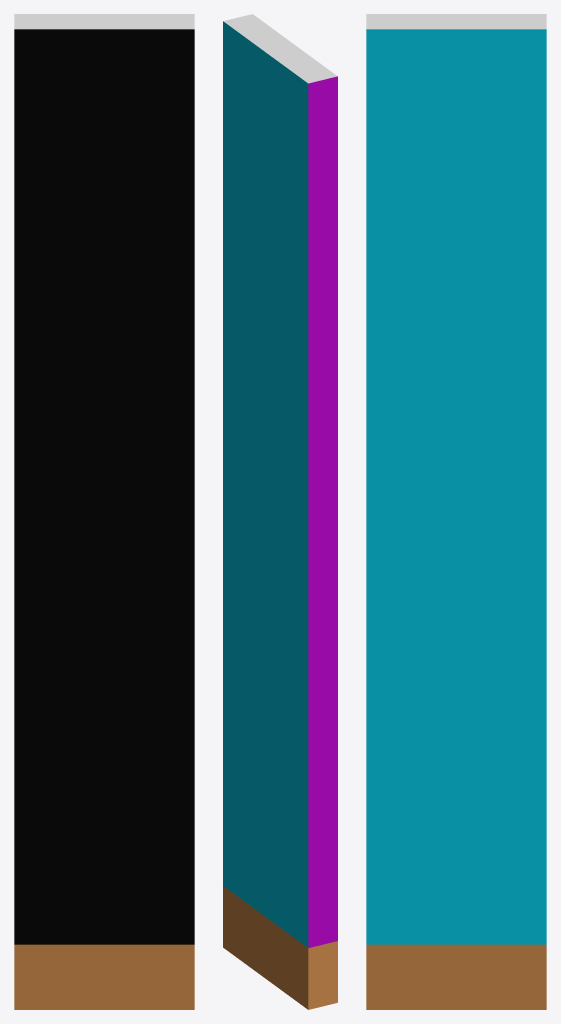
Rendered from wall_0.5m.dae.
3 renders of one model, left to right at view 1: azimuth 90°, elevation 25°; view 2: azimuth 210°, elevation 25°; view 3: azimuth 270°, elevation 25°, orthographic. The views are drawn at different scales.
Visible parts, largest first — view 1: Cube; view 2: Cube; view 3: Cube.
Boxes of the visible parts, x1,y1,x2,y2 form: Cube: [14, 14, 194, 1009]; Cube: [223, 14, 337, 1009]; Cube: [366, 14, 546, 1009].
Size of the model in its own units: 0.1 by 0.5 by 3.
